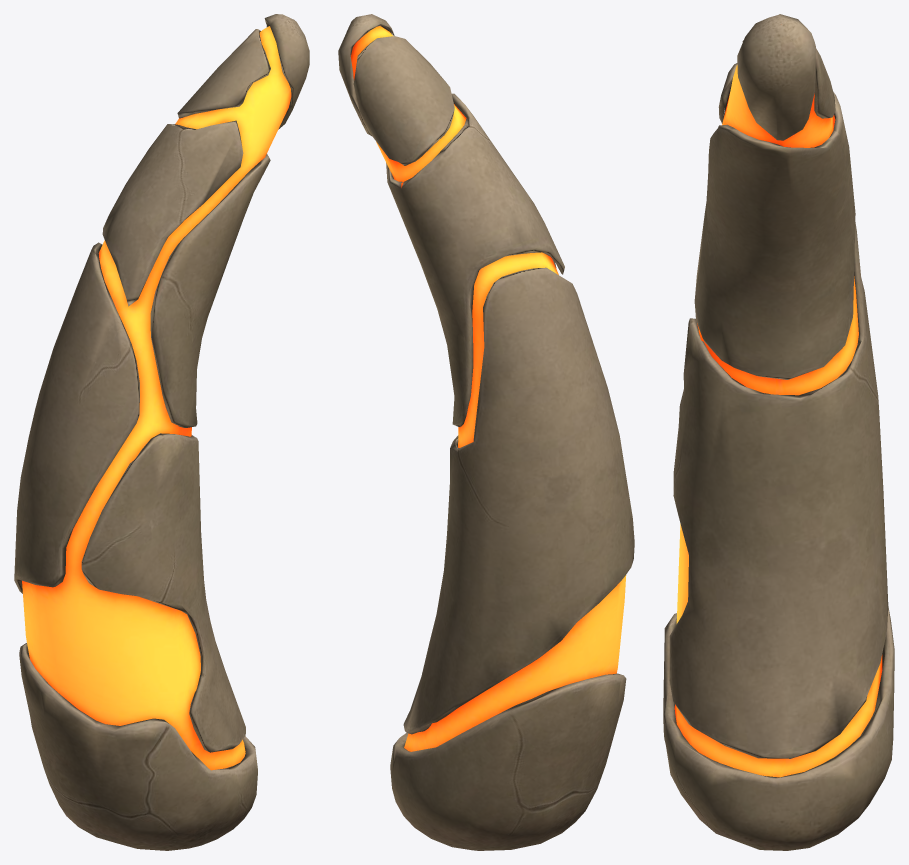
3 views of the same model, side by side, from view 1: azimuth 30°, elevation 25°; view 2: azimuth 150°, elevation 25°; view 3: azimuth 270°, elevation 25° (orthographic). The views are drawn at different scales.
Visible parts, largest first — view 1: tb_bone_01d; view 2: tb_bone_01d; view 3: tb_bone_01d.
Boxes of the visible parts, x1,y1,x2,y2 form: tb_bone_01d: (14,14,309,850); tb_bone_01d: (338,14,634,850); tb_bone_01d: (663,14,894,850).
Size of the model in its own units: 3.53 by 9.65 by 2.3.
Materials: 1 (1 with a texture image).
